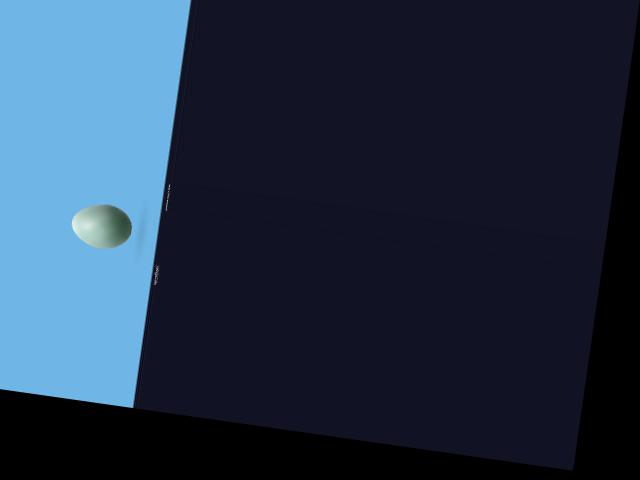egg: (68, 199, 134, 251)
